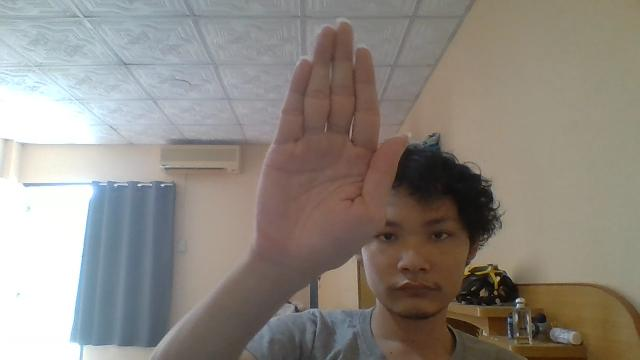Stop: (252, 20, 410, 280)
